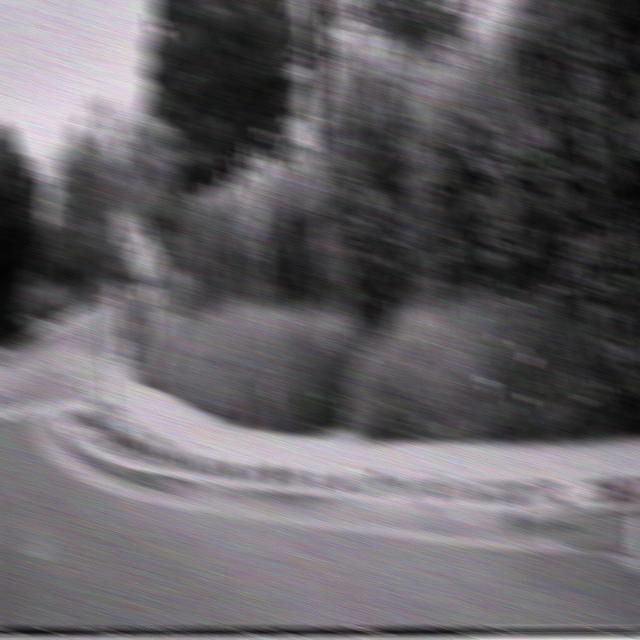pedestrianCrossing: (127, 226, 164, 286)
